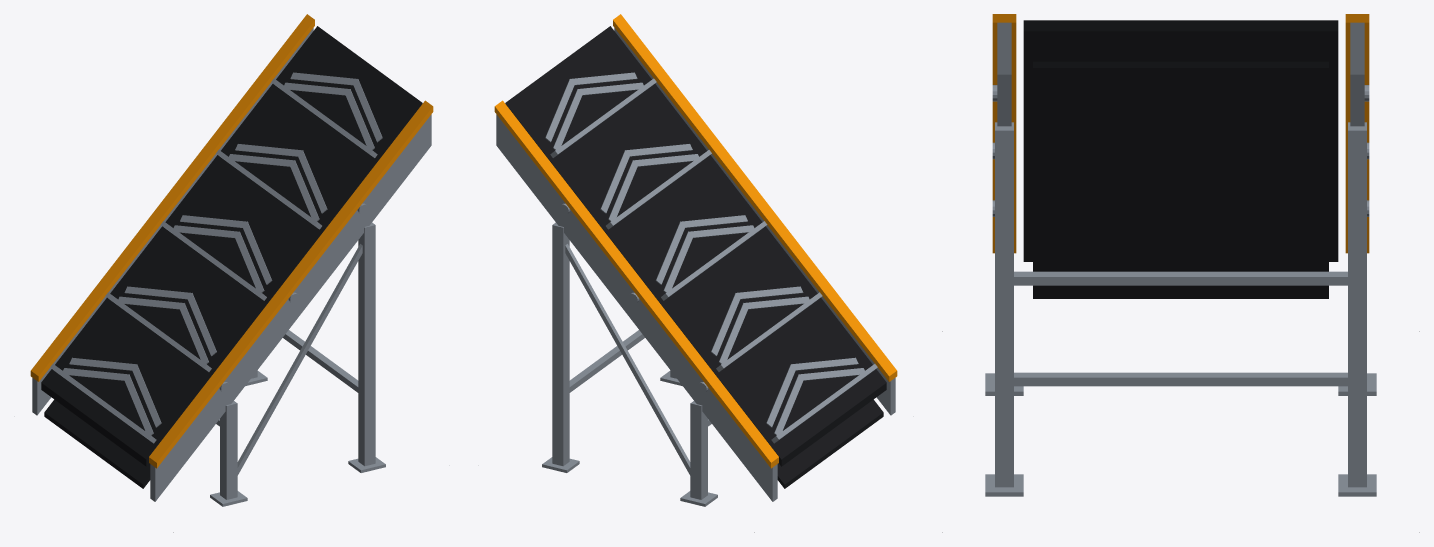
File: convoyeur_rampe_t2.glb
The picture shows the model from 3 angles, left to right: view 1: azimuth 30°, elevation 25°; view 2: azimuth 150°, elevation 25°; view 3: azimuth 270°, elevation 25°; orthographic projection. The views are drawn at different scales.
Visible parts, largest first — view 1: bande_porteuse.024, bande_acier.042, pieces_acier.048, longeron_-1.024, rive_-1.024, rive_1.024, bande_retour.024, longeron_1.024; view 2: bande_porteuse.024, bande_acier.042, pieces_acier.048, longeron_1.024, rive_1.024, rive_-1.024, bande_retour.024, longeron_-1.024; view 3: bande_retour.024, pieces_acier.048, bande_porteuse.024, rive_1.024, rive_-1.024, longeron_1.024, longeron_-1.024.
Boxes of the visible parts, left/top/right/bottom form: bande_porteuse.024: left=41, top=26, right=422, bottom=466; bande_acier.042: left=50, top=72, right=382, bottom=443; pieces_acier.048: left=210, top=203, right=385, bottom=506; longeron_-1.024: left=150, top=114, right=431, bottom=501; rive_-1.024: left=149, top=100, right=433, bottom=468; rive_1.024: left=30, top=14, right=314, bottom=381; bande_retour.024: left=44, top=399, right=150, bottom=488; longeron_1.024: left=32, top=28, right=313, bottom=415; bande_porteuse.024: left=505, top=26, right=886, bottom=466; bande_acier.042: left=545, top=72, right=877, bottom=443; pieces_acier.048: left=542, top=203, right=717, bottom=506; longeron_1.024: left=496, top=114, right=777, bottom=501; rive_1.024: left=494, top=100, right=778, bottom=468; rive_-1.024: left=613, top=14, right=897, bottom=381; bande_retour.024: left=777, top=399, right=883, bottom=488; longeron_-1.024: left=614, top=28, right=895, bottom=415; bande_retour.024: left=1033, top=61, right=1328, bottom=298; pieces_acier.048: left=985, top=85, right=1376, bottom=496; bande_porteuse.024: left=1023, top=20, right=1338, bottom=261; rive_1.024: left=1345, top=14, right=1369, bottom=253; rive_-1.024: left=992, top=14, right=1016, bottom=253; longeron_1.024: left=1350, top=22, right=1364, bottom=126; longeron_-1.024: left=997, top=22, right=1011, bottom=126.
Size of the model in its own units: 1 by 1.2 by 1.
